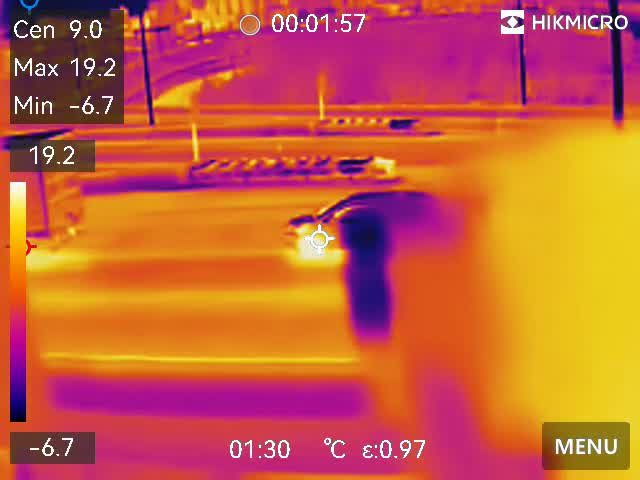heavyTruck: (7, 131, 99, 249)
